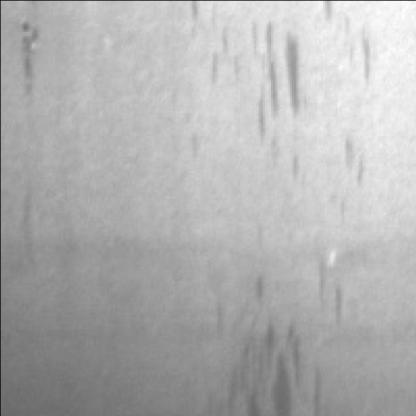inclusion: (208, 302, 326, 412), (239, 10, 316, 146), (12, 8, 54, 106)
